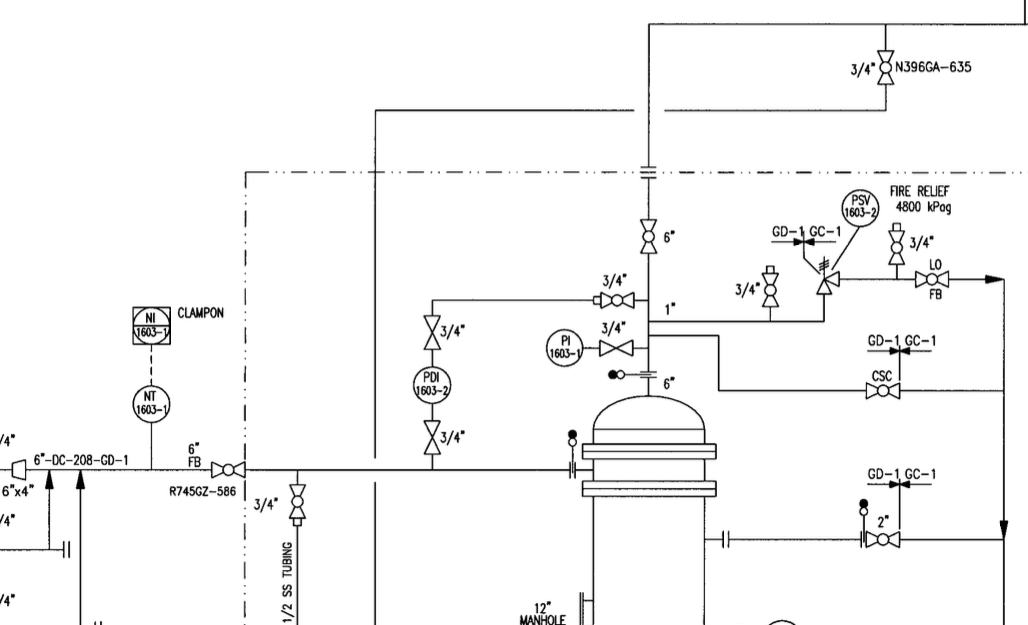Instrument: (402, 362, 455, 408), (542, 324, 587, 370), (130, 382, 172, 425), (841, 185, 881, 229)
Instrument-square: (130, 303, 174, 348)
